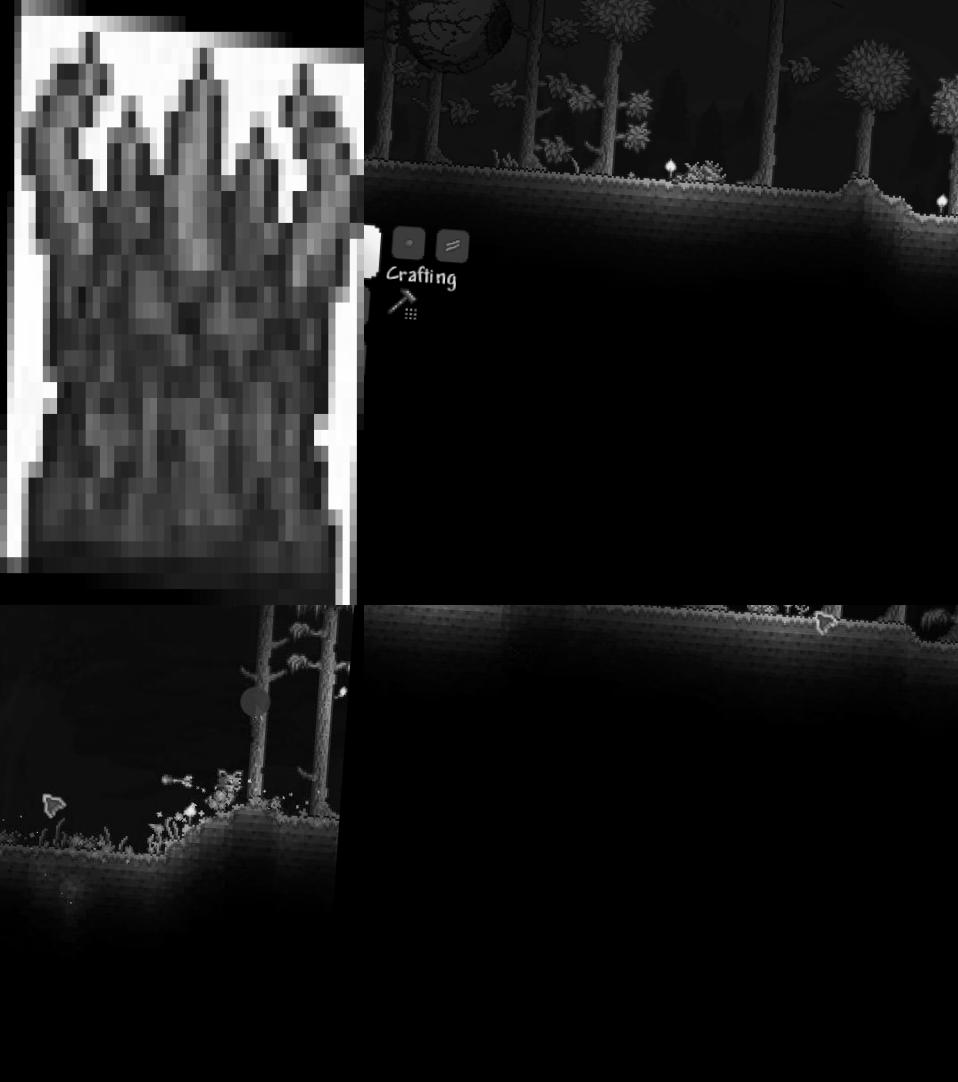altar: (0, 0, 364, 605)
eyeC: (364, 0, 511, 87)
torchT: (770, 605, 805, 622)
